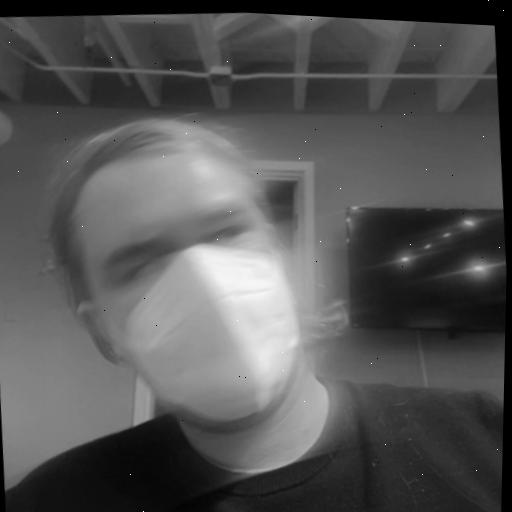mask: (21, 82, 374, 485)
